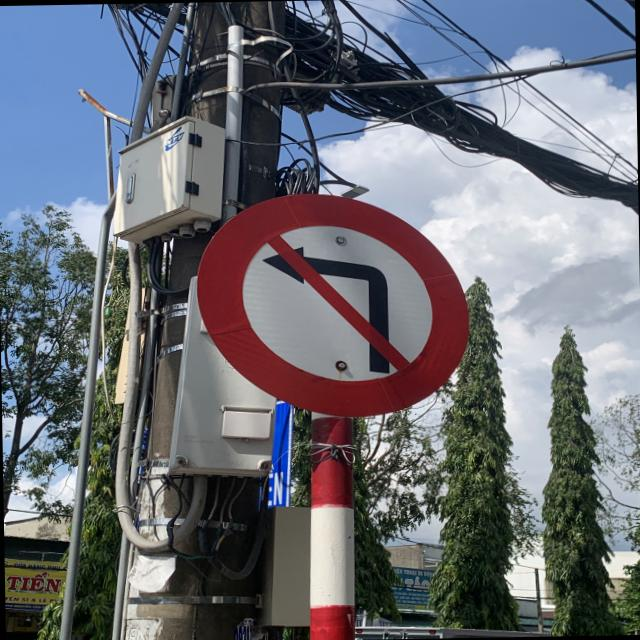Cam_Re_Trai: (193, 188, 473, 420)
